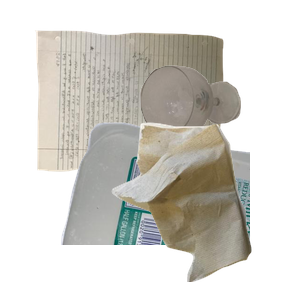glass: (138, 63, 300, 191)
paper: (32, 28, 249, 196)
plastic: (58, 120, 298, 300)
trash: (109, 120, 300, 300)
